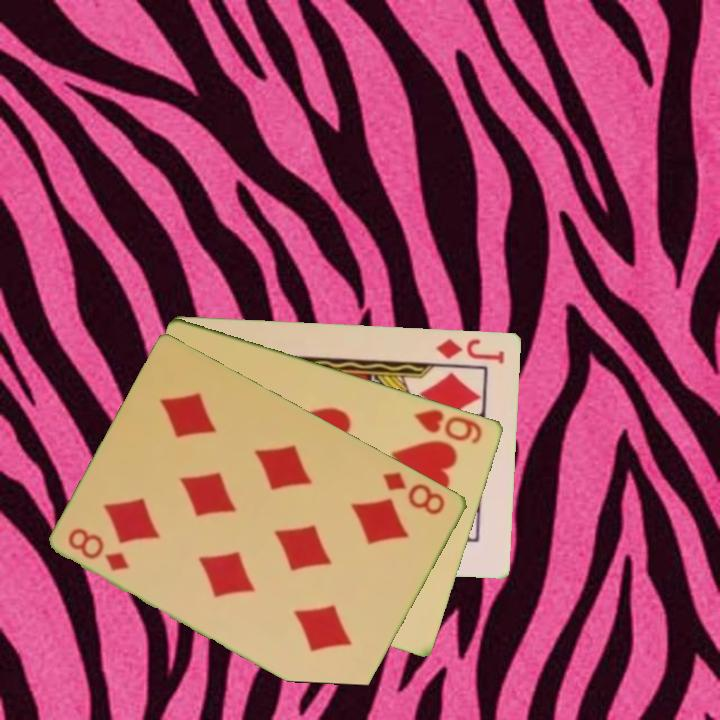6h: (411, 405, 486, 447)
8d: (379, 467, 449, 518), (65, 524, 133, 574)
Jd: (433, 334, 508, 366)
